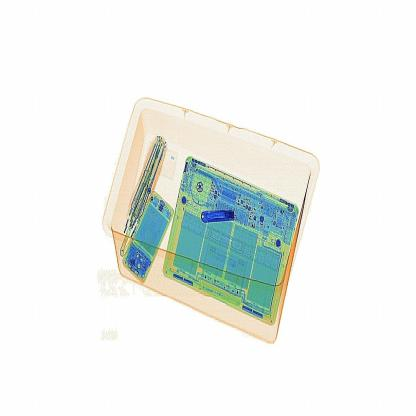knife: (196, 194, 244, 234)
